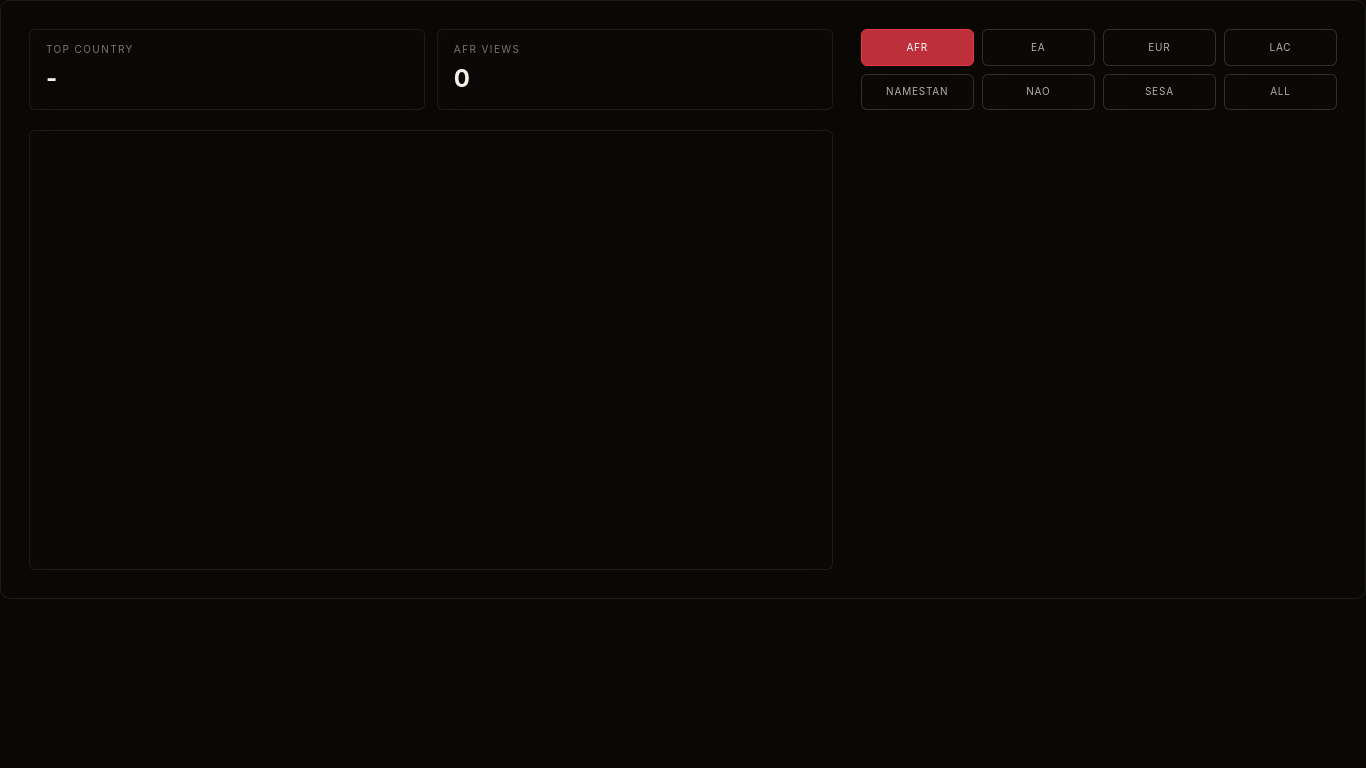
Test case: HomeCountryViewsInteractive › disables auto-advance and outgoing layers for reduced-motion users
Click the button "LAC": click(1280, 47) [1224,29,1337,66]
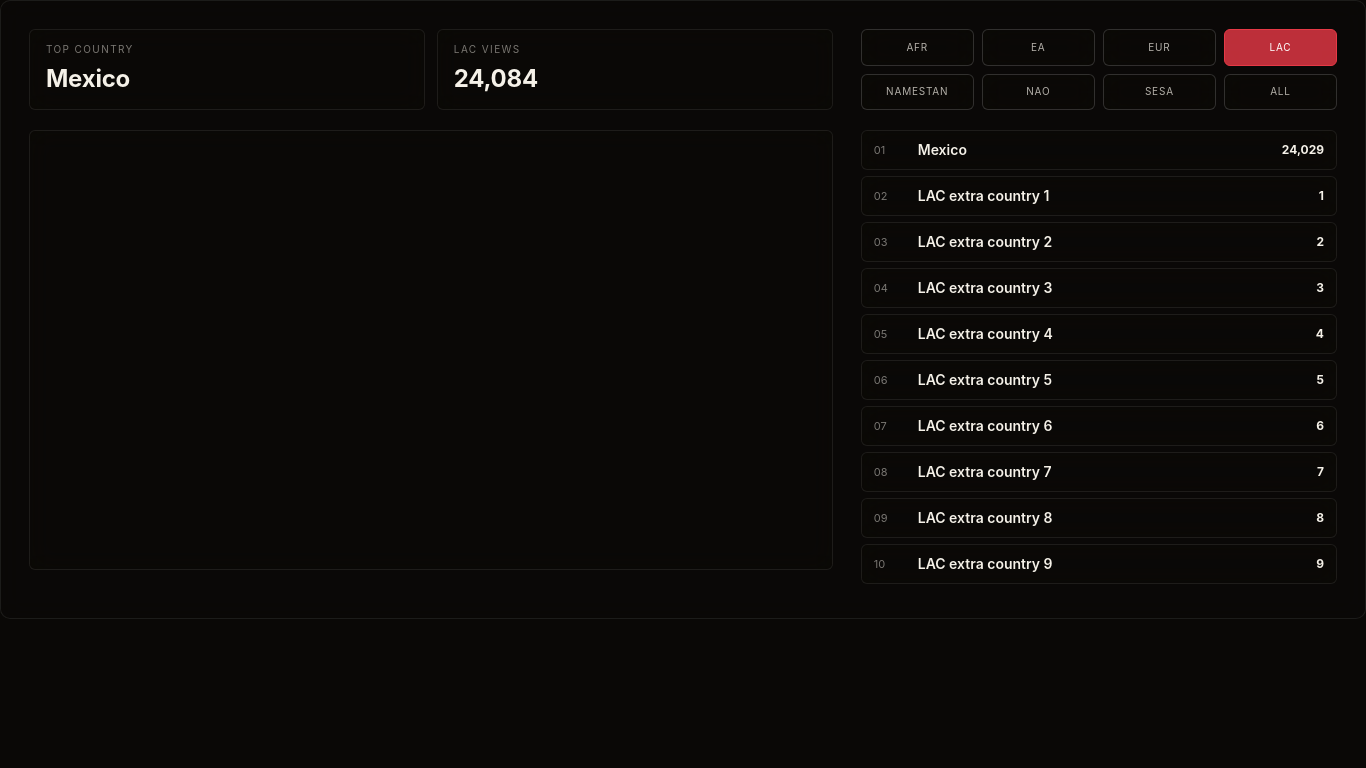
Expected: the text "LAC extra country 9" is shown, [918,555,1052,572]
